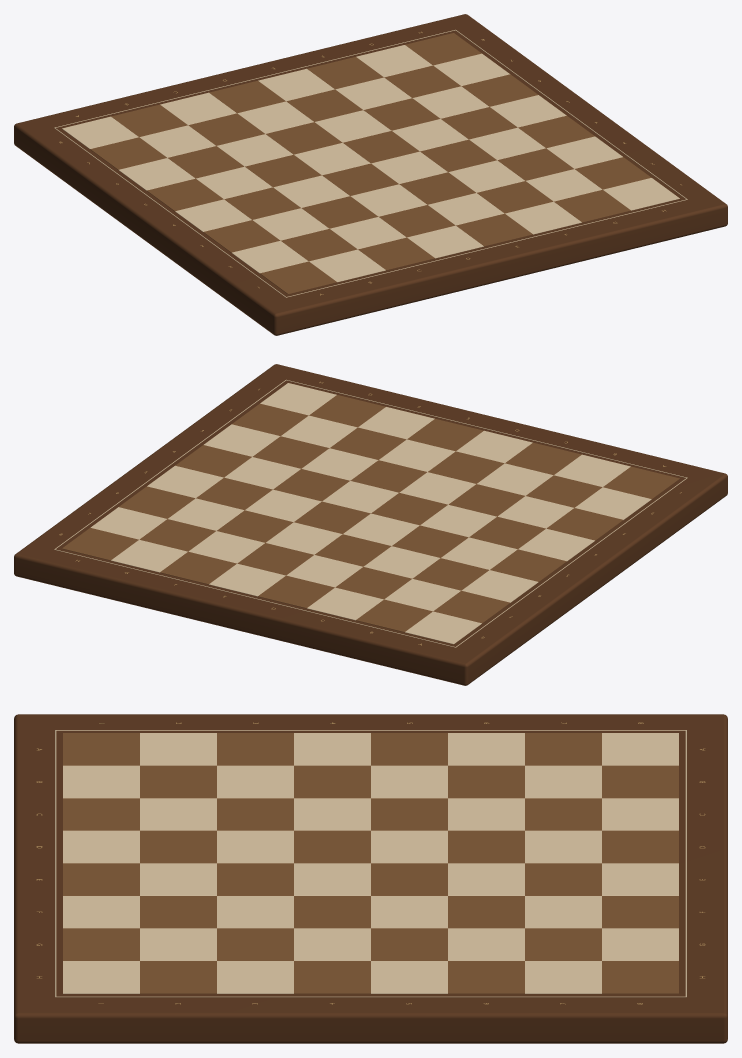
File: board.glb
3 renders of one model, top to bottom at view 1: azimuth 30°, elevation 25°; view 2: azimuth 150°, elevation 25°; view 3: azimuth 270°, elevation 25°, orthographic. The views are drawn at different scales.
Visible parts, largest first — view 1: Solid walnut board.001, a1 | walnut.001, b1 | maple.001, g1 | walnut.001, h1 | maple.001, c1 | walnut.001, d1 | maple.001, e1 | walnut.001, f1 | maple.001, a3 | walnut.001, a5 | walnut.001, a4 | maple.001 (+53 smaller); view 2: Solid walnut board.001, a8 | maple.001, b8 | walnut.001, g8 | maple.001, h8 | walnut.001, c8 | maple.001, d8 | walnut.001, e8 | maple.001, f8 | walnut.001, a4 | maple.001, a6 | maple.001, a5 | walnut.001 (+53 smaller); view 3: Solid walnut board.001, b1 | maple.001, b2 | walnut.001, b3 | maple.001, b4 | walnut.001, b5 | maple.001, b6 | walnut.001, b7 | maple.001, b8 | walnut.001, d1 | maple.001, d2 | walnut.001, d3 | maple.001 (+57 smaller).
Part boxes in pixels (left/top/right/bottom): Solid walnut board.001: left=14, top=14, right=727, bottom=335; a1 | walnut.001: left=260, top=261, right=336, bottom=294; b1 | maple.001: left=309, top=249, right=385, bottom=282; g1 | walnut.001: left=554, top=189, right=630, bottom=222; h1 | maple.001: left=603, top=178, right=679, bottom=210; c1 | walnut.001: left=358, top=237, right=434, bottom=270; d1 | maple.001: left=407, top=225, right=483, bottom=258; e1 | walnut.001: left=456, top=213, right=532, bottom=246; f1 | maple.001: left=505, top=201, right=581, bottom=234; a3 | walnut.001: left=203, top=220, right=280, bottom=252; a5 | walnut.001: left=147, top=178, right=223, bottom=211; a4 | maple.001: left=175, top=199, right=251, bottom=231; Solid walnut board.001: left=14, top=364, right=727, bottom=685; a8 | maple.001: left=405, top=611, right=481, bottom=644; b8 | walnut.001: left=356, top=599, right=432, bottom=632; g8 | maple.001: left=111, top=539, right=187, bottom=572; h8 | walnut.001: left=62, top=528, right=138, bottom=560; c8 | maple.001: left=307, top=587, right=383, bottom=620; d8 | walnut.001: left=258, top=575, right=334, bottom=608; e8 | maple.001: left=209, top=563, right=285, bottom=596; f8 | walnut.001: left=160, top=551, right=236, bottom=584; a4 | maple.001: left=518, top=528, right=594, bottom=561; a6 | maple.001: left=461, top=570, right=538, bottom=602; a5 | walnut.001: left=490, top=549, right=566, bottom=581; Solid walnut board.001: left=14, top=714, right=727, bottom=1043; b1 | maple.001: left=63, top=765, right=139, bottom=798; b2 | walnut.001: left=140, top=765, right=216, bottom=798; b3 | maple.001: left=217, top=765, right=293, bottom=798; b4 | walnut.001: left=294, top=765, right=370, bottom=798; b5 | maple.001: left=371, top=765, right=447, bottom=798; b6 | walnut.001: left=448, top=765, right=524, bottom=798; b7 | maple.001: left=525, top=765, right=601, bottom=798; b8 | walnut.001: left=602, top=765, right=678, bottom=798; d1 | maple.001: left=63, top=830, right=139, bottom=863; d2 | walnut.001: left=140, top=830, right=216, bottom=863; d3 | maple.001: left=217, top=830, right=293, bottom=863.
Size of the model in its own units: 0.51 by 0.0255 by 0.51.
